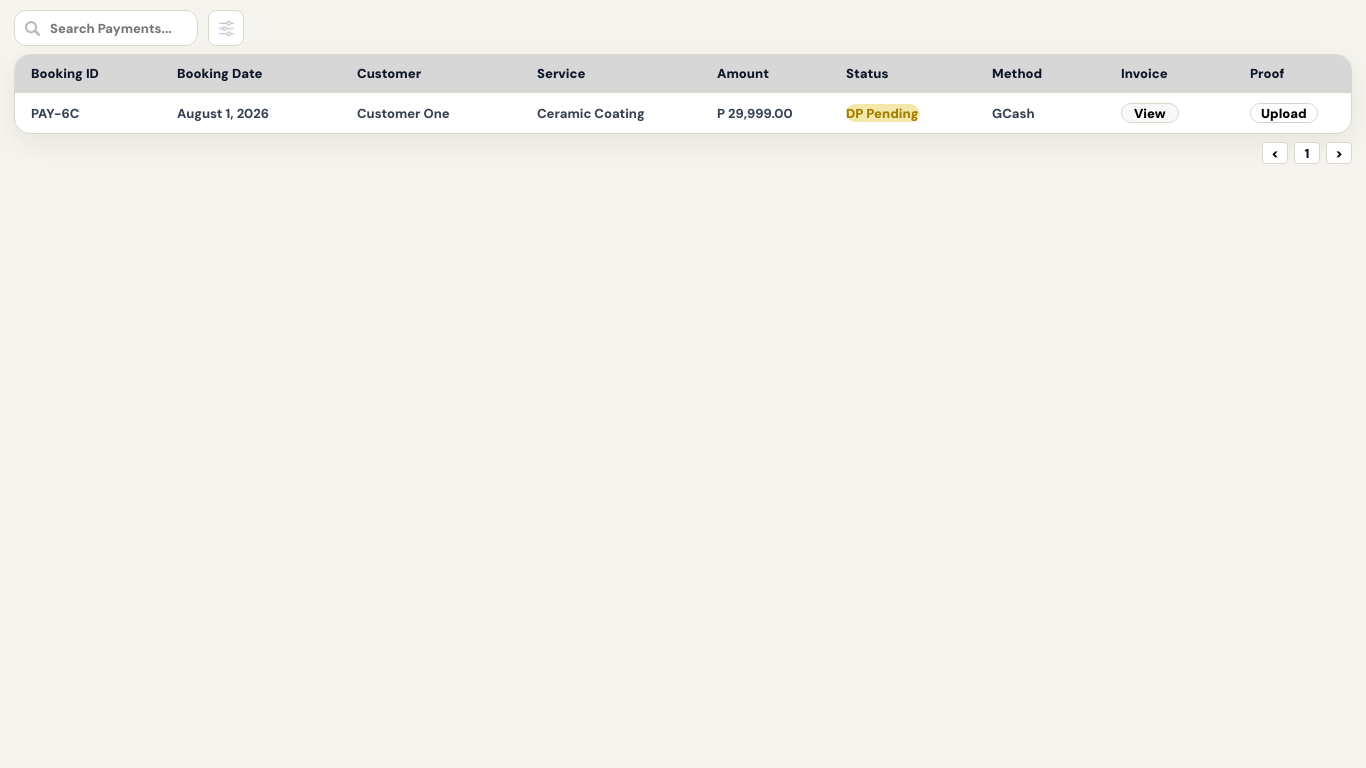
CustomerPayments Phase 6C › Flexible Downpayment › accepts 500 and updates the remaining balance live
This screenshot has width=1366, height=768.
Click the button "Upload" at (1284, 113), box [1250,103,1318,123]
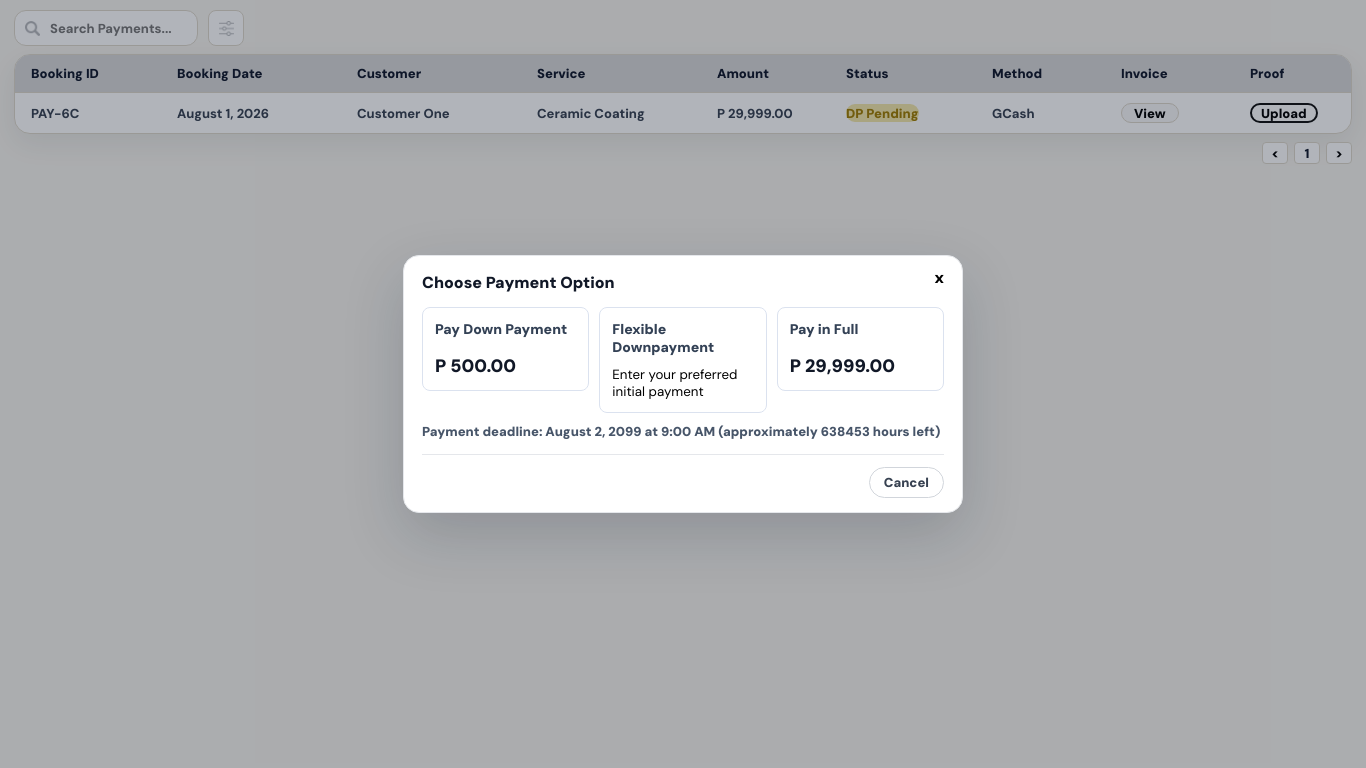
Check: the field labelled "Amount (₱)" is not shown
Click the button "Flexible Downpayment Enter your preferred initial payment" at (683, 360), box [599,307,767,413]
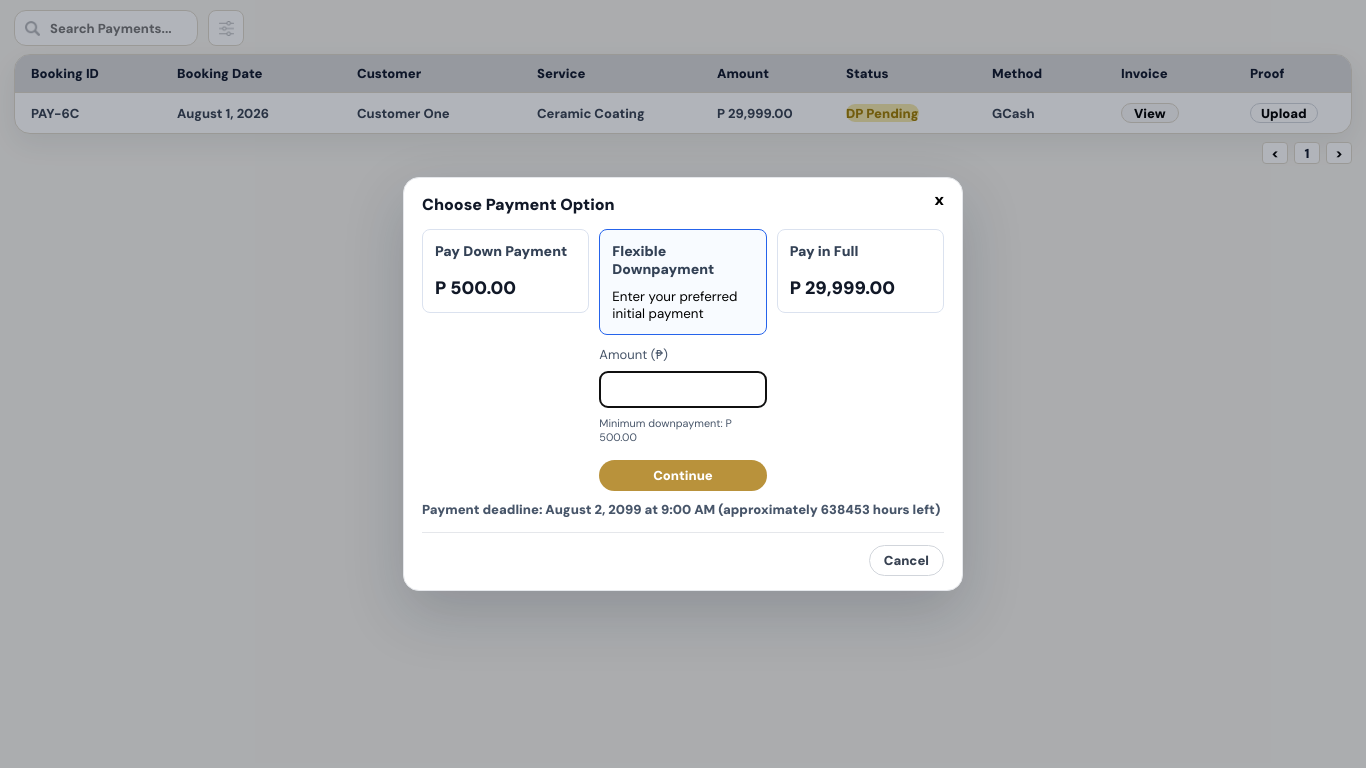
Type "500" into the field labelled "Amount (₱)" at (683, 390), box [599,371,767,408]
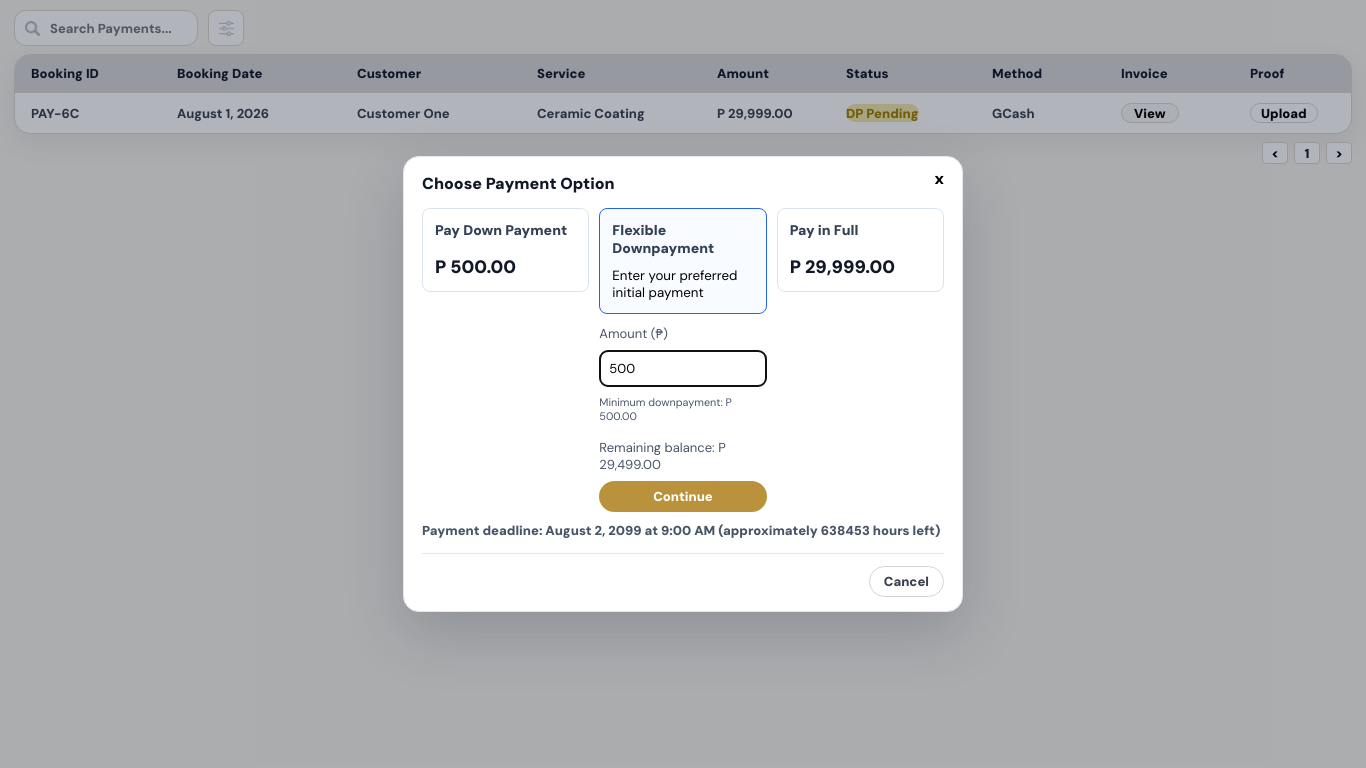
Check: the button "Continue" is enabled, box [599,481,767,512]
